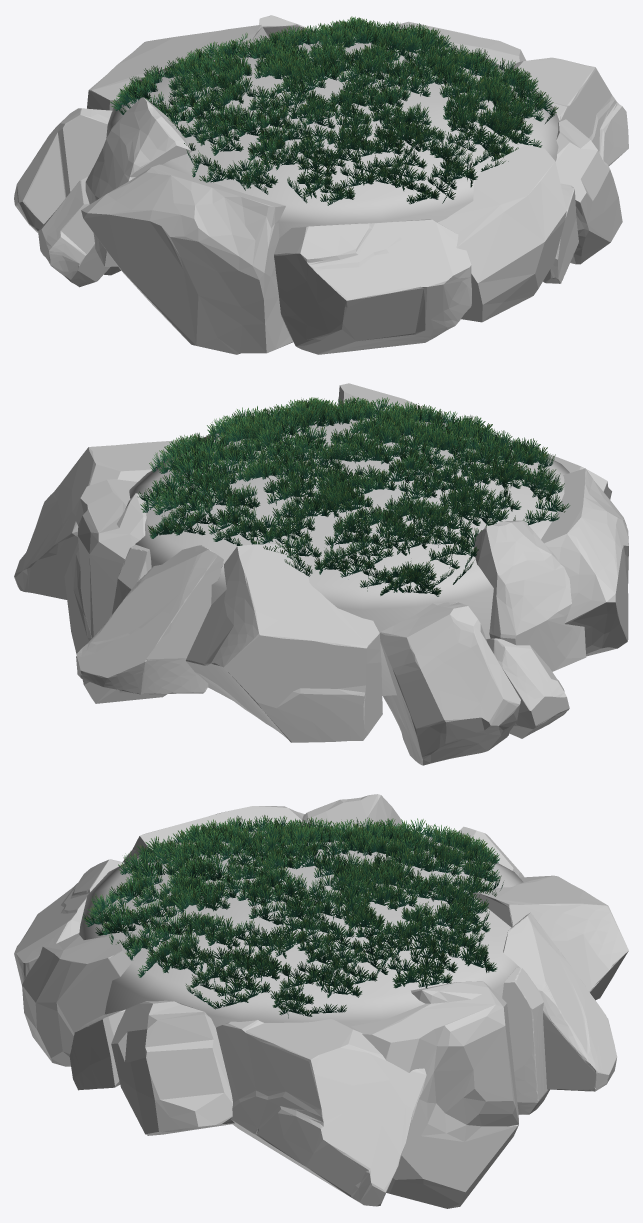
The model's file is sm_uv_05x_terrace2.fbx.
3 renders of one model, top to bottom at view 1: azimuth 30°, elevation 25°; view 2: azimuth 150°, elevation 25°; view 3: azimuth 270°, elevation 25°, orthographic. The views are drawn at different scales.
Parts seen in each view (by area): view 1: sm_grass_terrace05x2:ZBrushPolyMesh3D; view 2: sm_grass_terrace05x2:ZBrushPolyMesh3D; view 3: sm_grass_terrace05x2:ZBrushPolyMesh3D.
Part boxes in pixels (bbox=[...]): sm_grass_terrace05x2:ZBrushPolyMesh3D: bbox=[14, 15, 628, 354]; sm_grass_terrace05x2:ZBrushPolyMesh3D: bbox=[14, 383, 628, 765]; sm_grass_terrace05x2:ZBrushPolyMesh3D: bbox=[14, 794, 628, 1208].
Bounding box in the file's own units: 527 × 219 × 486.
